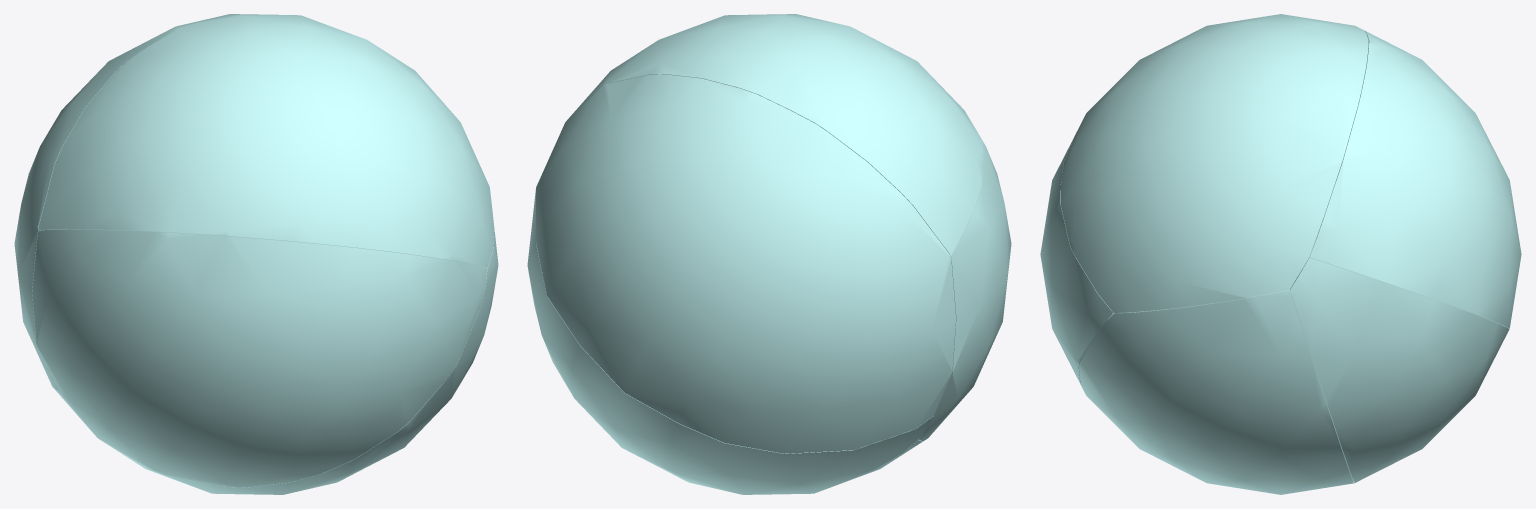
File: SphereBroken.fbx
3 views of the same model, side by side, from view 1: azimuth 30°, elevation 25°; view 2: azimuth 150°, elevation 25°; view 3: azimuth 270°, elevation 25° (orthographic).
Parts seen in each view (by area): view 1: Ball_cell.003, Ball_cell.002, Ball_cell, Ball_cell.001; view 2: Ball_cell, Ball_cell.002, Ball_cell.004, Ball_cell.003; view 3: Ball_cell.002, Ball_cell.001, Ball_cell, Ball_cell.004, Ball_cell.003.
Part boxes in pixels (x1,y1,x2,y2): Ball_cell.003: (32,229,487,487); Ball_cell.002: (38,15,494,268); Ball_cell: (14,14,278,391); Ball_cell.001: (104,229,498,494); Ball_cell: (536,74,955,453); Ball_cell.002: (577,14,983,256); Ball_cell.004: (527,190,933,494); Ball_cell.003: (919,127,1011,441); Ball_cell.002: (1060,14,1368,312); Ball_cell.001: (1079,290,1353,494); Ball_cell: (1309,31,1521,328); Ball_cell.004: (1290,257,1509,483); Ball_cell.003: (1040,136,1114,383).
Size of the model in its own units: 200 by 200 by 200.
